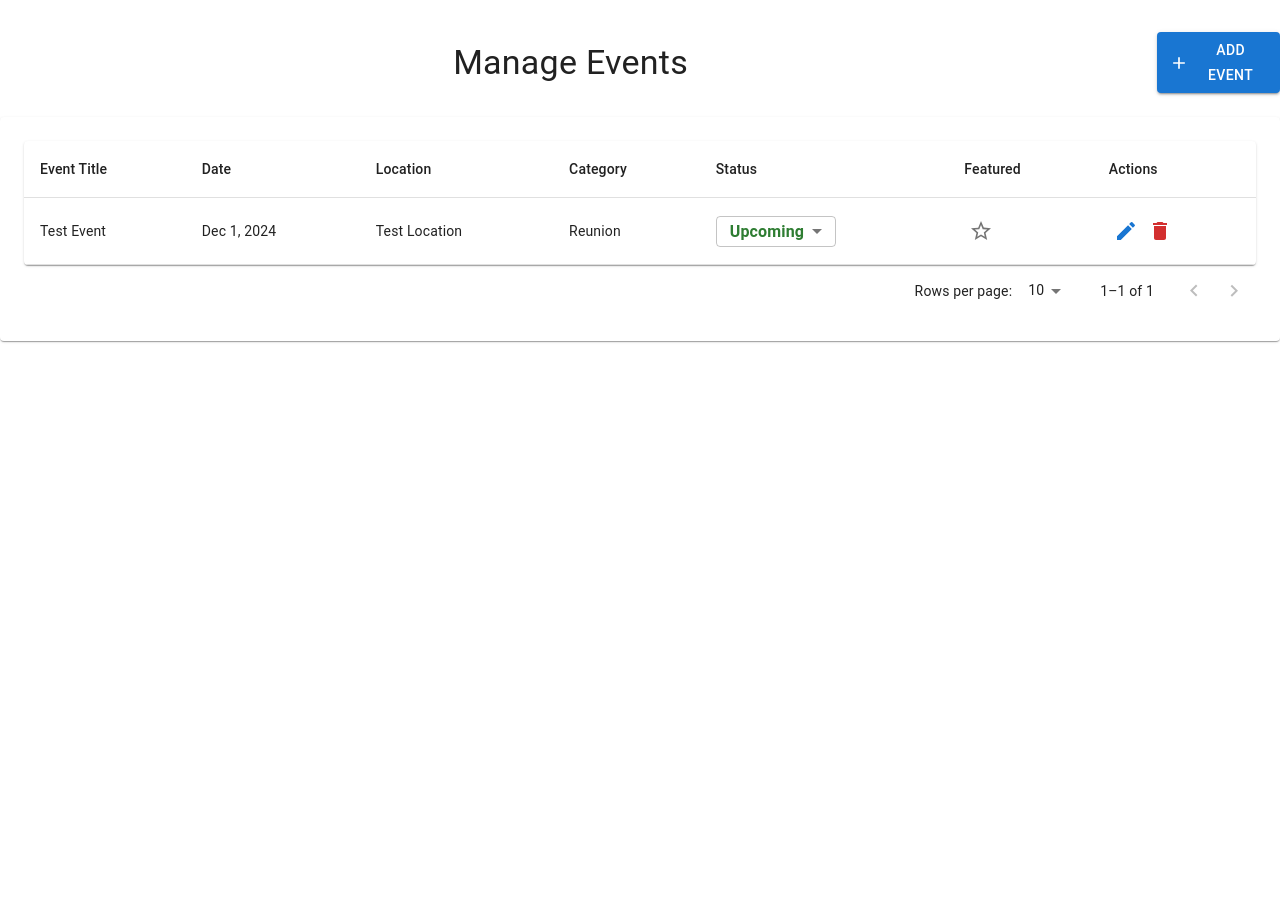
Test: AdminEventsPage - Edit Functionality › Requirement 3.3: Updated event data is saved via PUT request
Check: the text "Test Event" is shown, box [24, 198, 186, 264]
// Click Edit button
Click the button named "Edit Test Event".
click(1126, 231)  # box [1109, 214, 1143, 248]
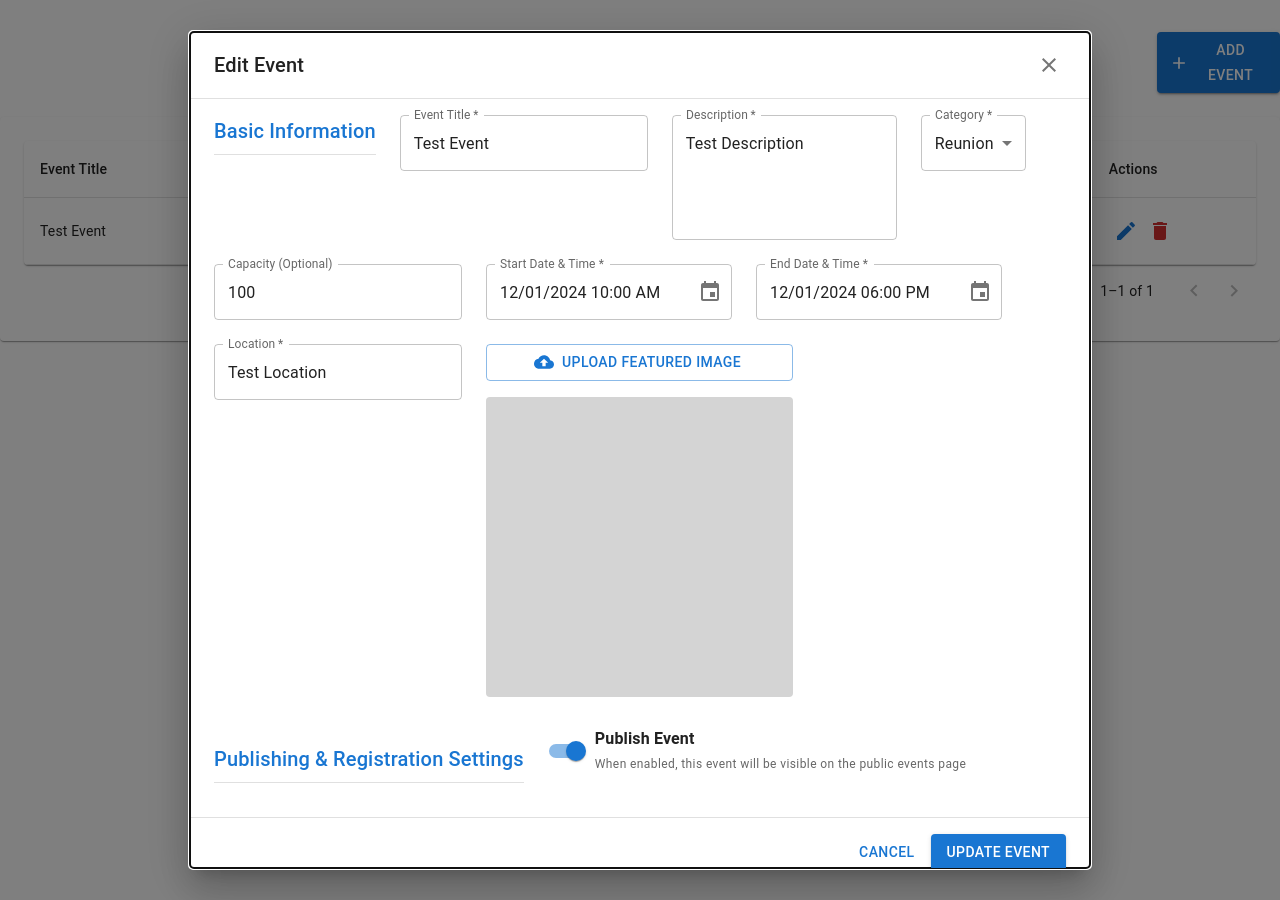
Check: the heading "Edit Event" is shown, box [214, 49, 304, 81]
// Update the title
Replace the text in the field showing "Test Event" with "Updated Event" at (524,143), box [400, 115, 648, 171]
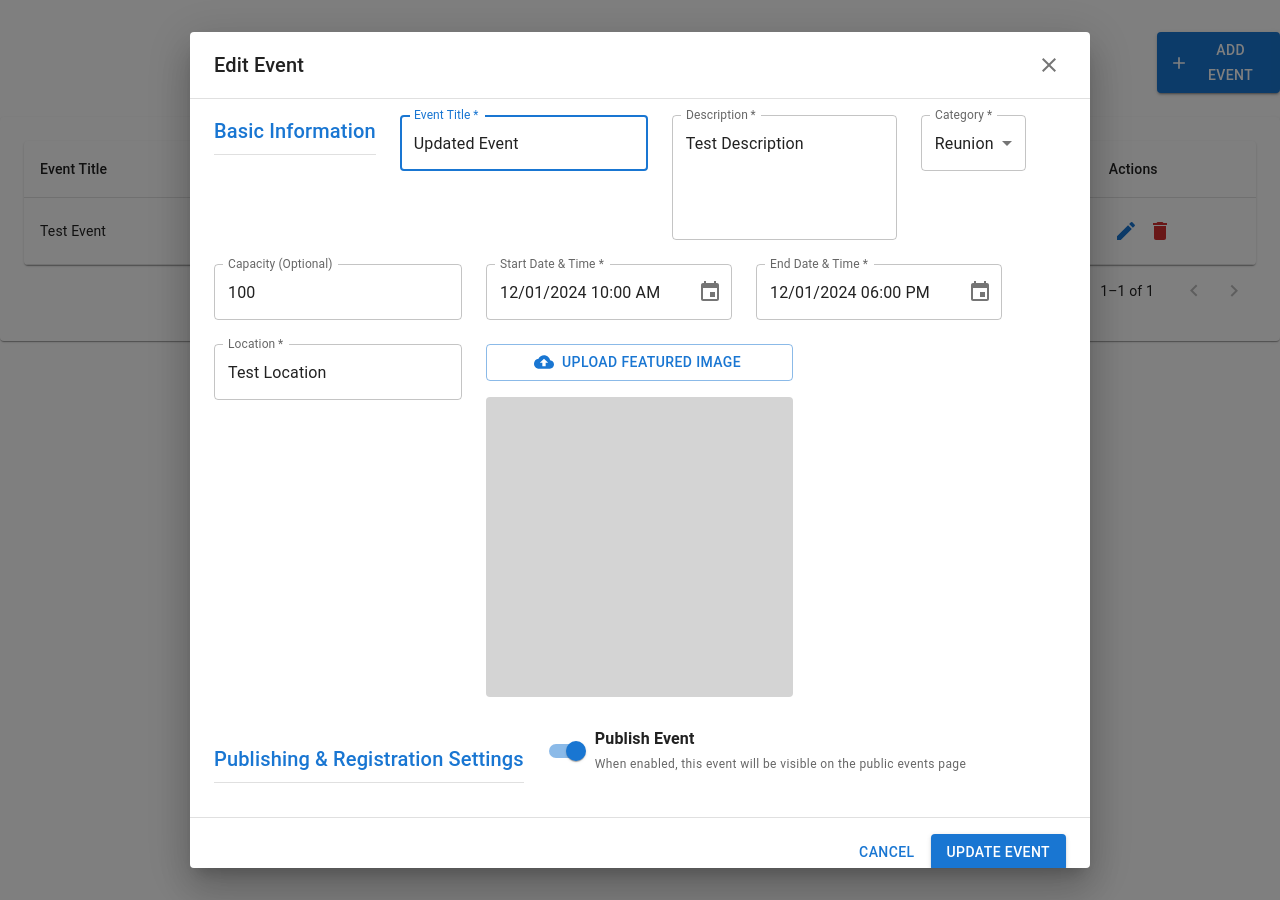
// Submit the form
Click the button "Update Event".
click(998, 852)  # box [930, 834, 1066, 870]
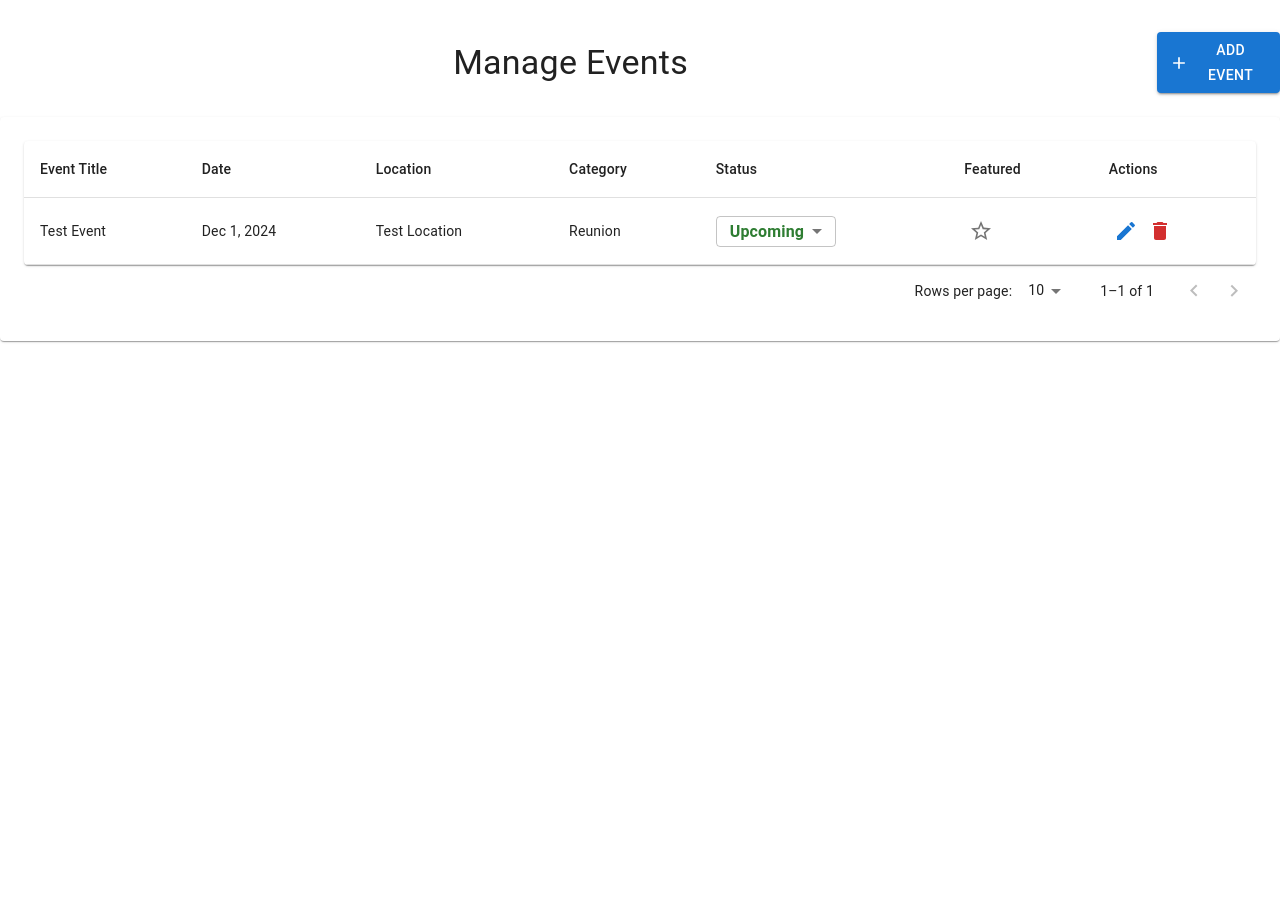
Check: the heading "Edit Event" is gone
